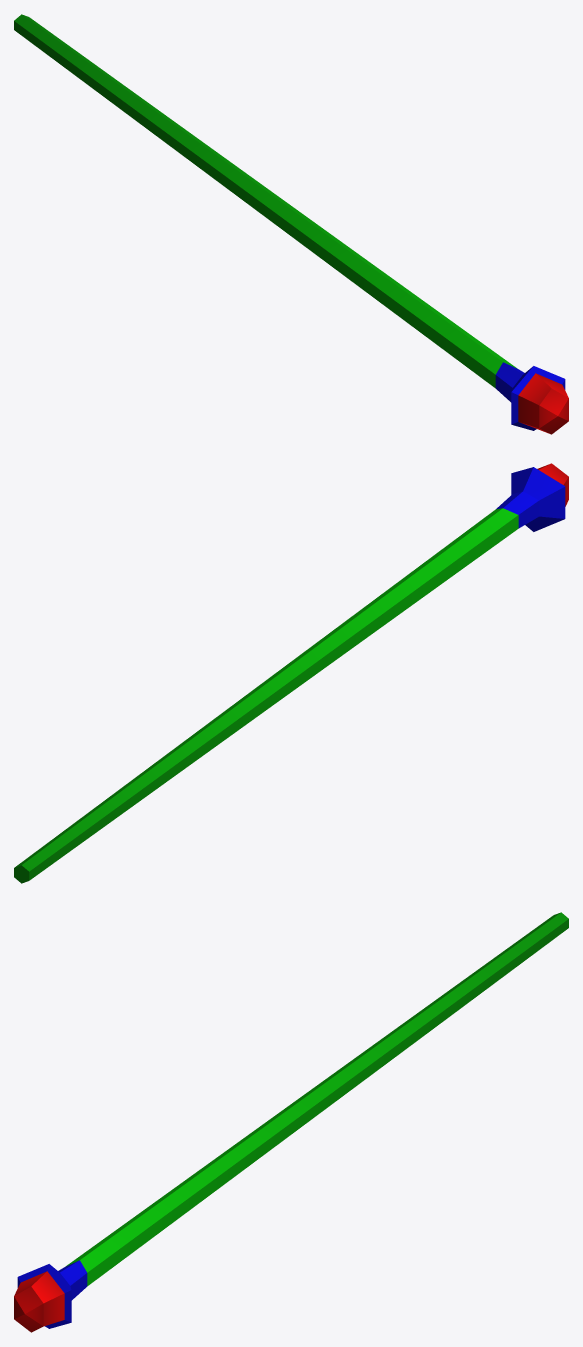
Rendered from StaffBasic_B.fbx.
The picture shows the model from 3 angles, top to bottom: view 1: azimuth 30°, elevation 25°; view 2: azimuth 150°, elevation 25°; view 3: azimuth 330°, elevation 25°; orthographic projection.
Visible parts, largest first — view 1: StaffBasic_B; view 2: StaffBasic_B; view 3: StaffBasic_B.
Boxes of the visible parts, <box> form: StaffBasic_B: <box>14,14,568,434</box>; StaffBasic_B: <box>14,463,568,883</box>; StaffBasic_B: <box>14,912,568,1332</box>.
Size of the model in its own units: 10.58 by 12.22 by 182.
